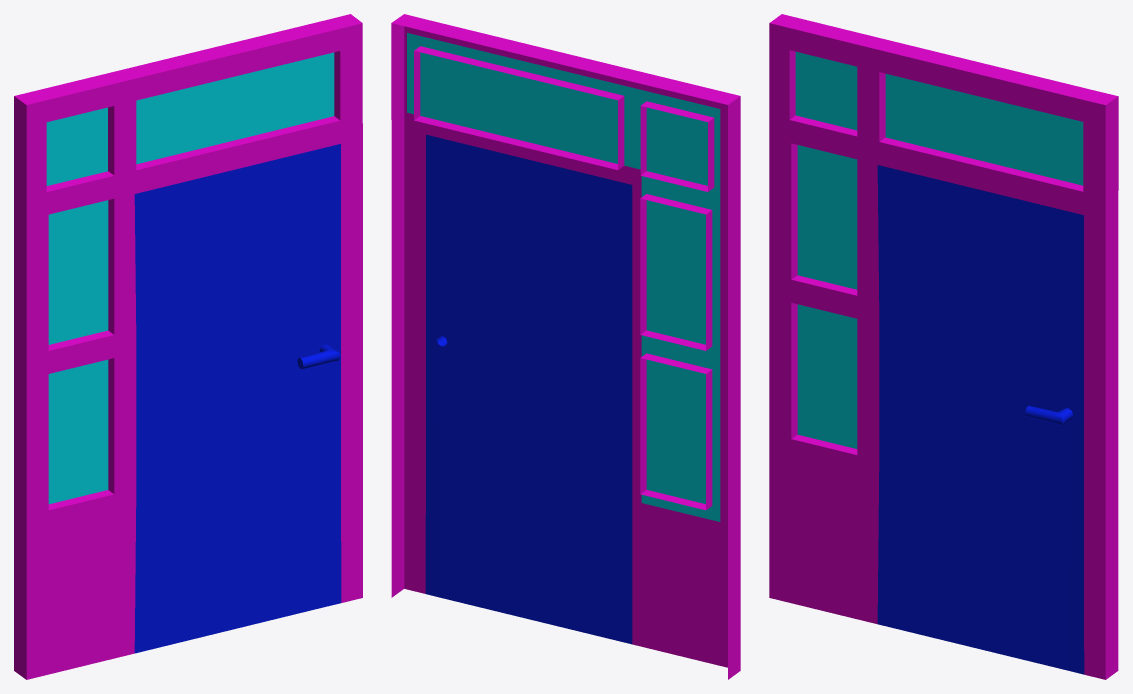
The model's file is Deur Closed L.fbx.
3 views of the same model, side by side, from view 1: azimuth 30°, elevation 25°; view 2: azimuth 150°, elevation 25°; view 3: azimuth 330°, elevation 25° (orthographic).
Parts seen in each view (by area): view 1: DeurRadL, DeurRadLRaam; view 2: DeurRadL, DeurRadLRaam; view 3: DeurRadL, DeurRadLRaam.
Part boxes in pixels (x1,y1,x2,y2): DeurRadL: (14, 14, 362, 679); DeurRadLRaam: (46, 52, 334, 504); DeurRadL: (391, 14, 740, 679); DeurRadLRaam: (407, 33, 720, 521); DeurRadL: (769, 14, 1118, 679); DeurRadLRaam: (795, 51, 1083, 448).
Size of the model in its own units: 153 by 250 by 18.23.
